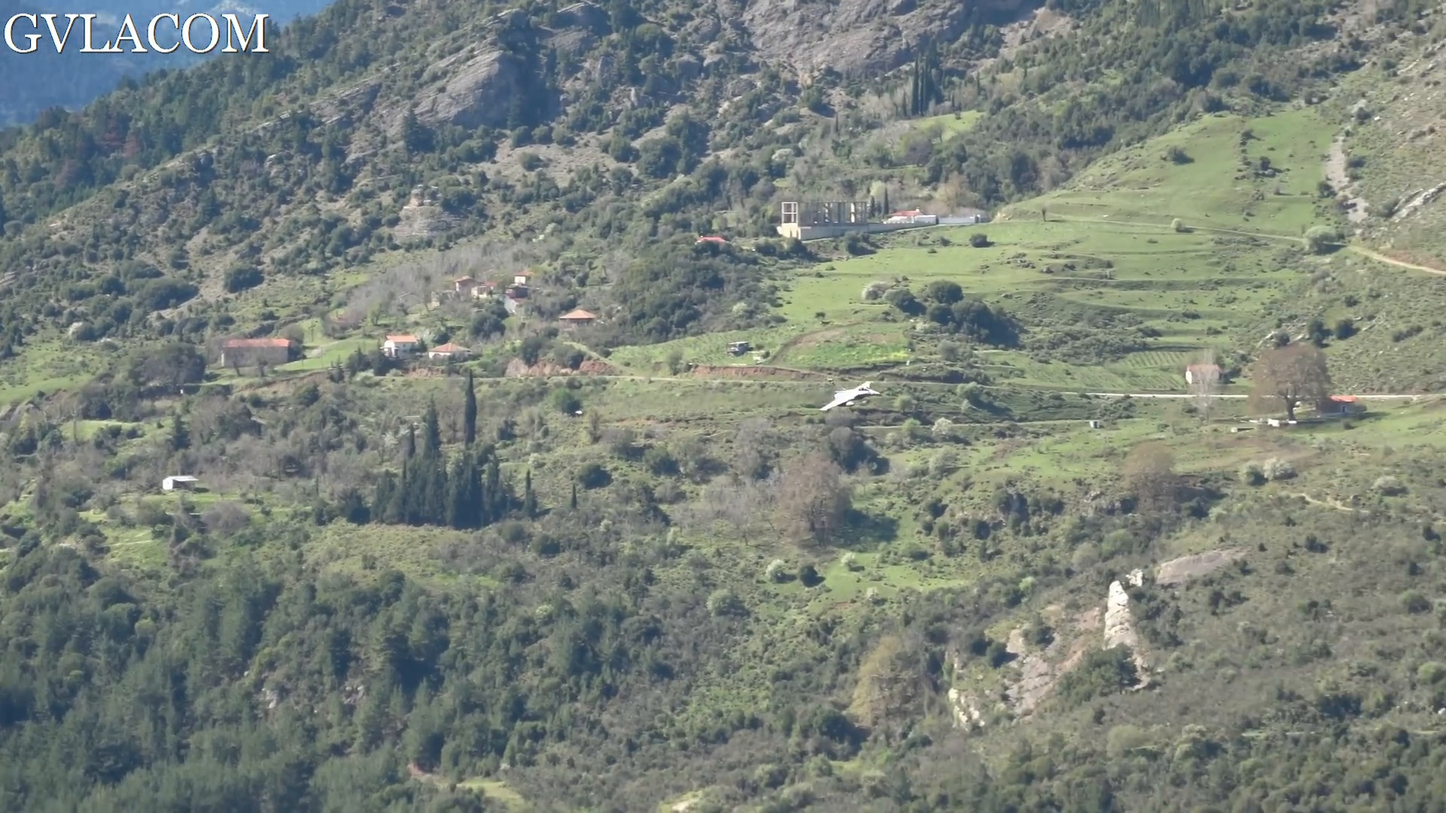Rafale: (819, 375, 887, 414)
